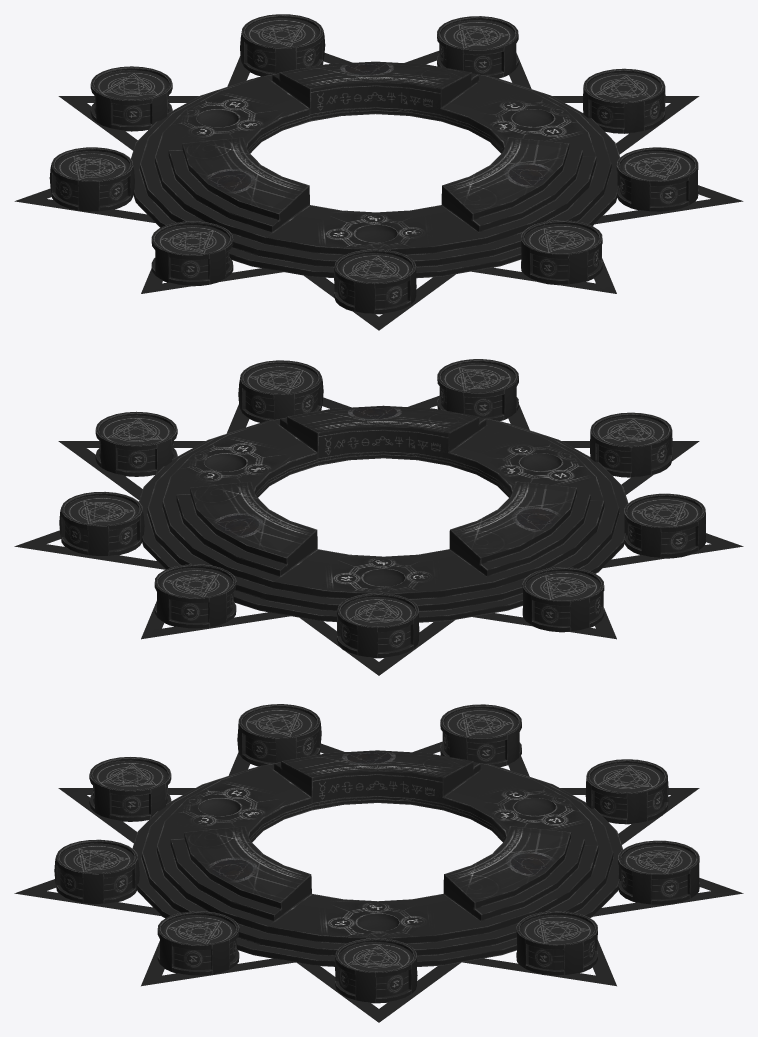
File: Altar012.FBX
3 views of the same model, one above another, from view 1: azimuth 30°, elevation 25°; view 2: azimuth 150°, elevation 25°; view 3: azimuth 270°, elevation 25° (orthographic).
Visible parts, largest first — view 1: Altar; view 2: Altar; view 3: Altar.
Part boxes in pixels (<box>): Altar: <box>14,14,743,330</box>; Altar: <box>14,359,743,675</box>; Altar: <box>14,704,743,1022</box>.
Bounding box in the file's own units: 54.22 × 3.27 × 55.06.
